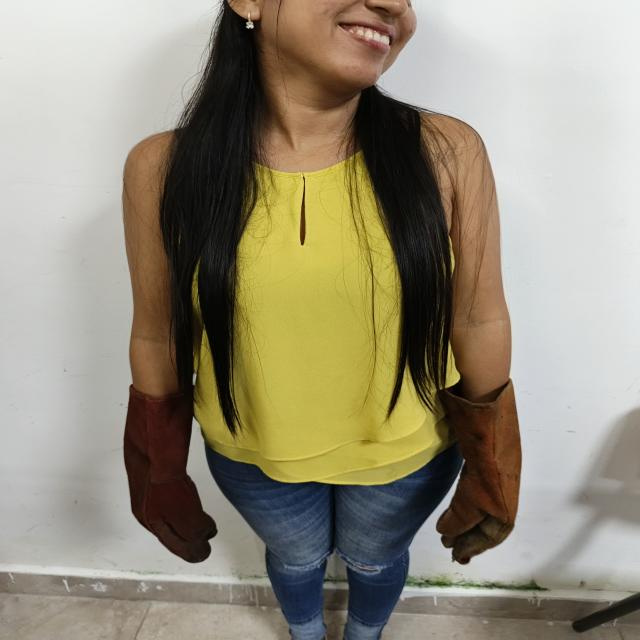gloves: (124, 385, 217, 563), (437, 379, 521, 564)
